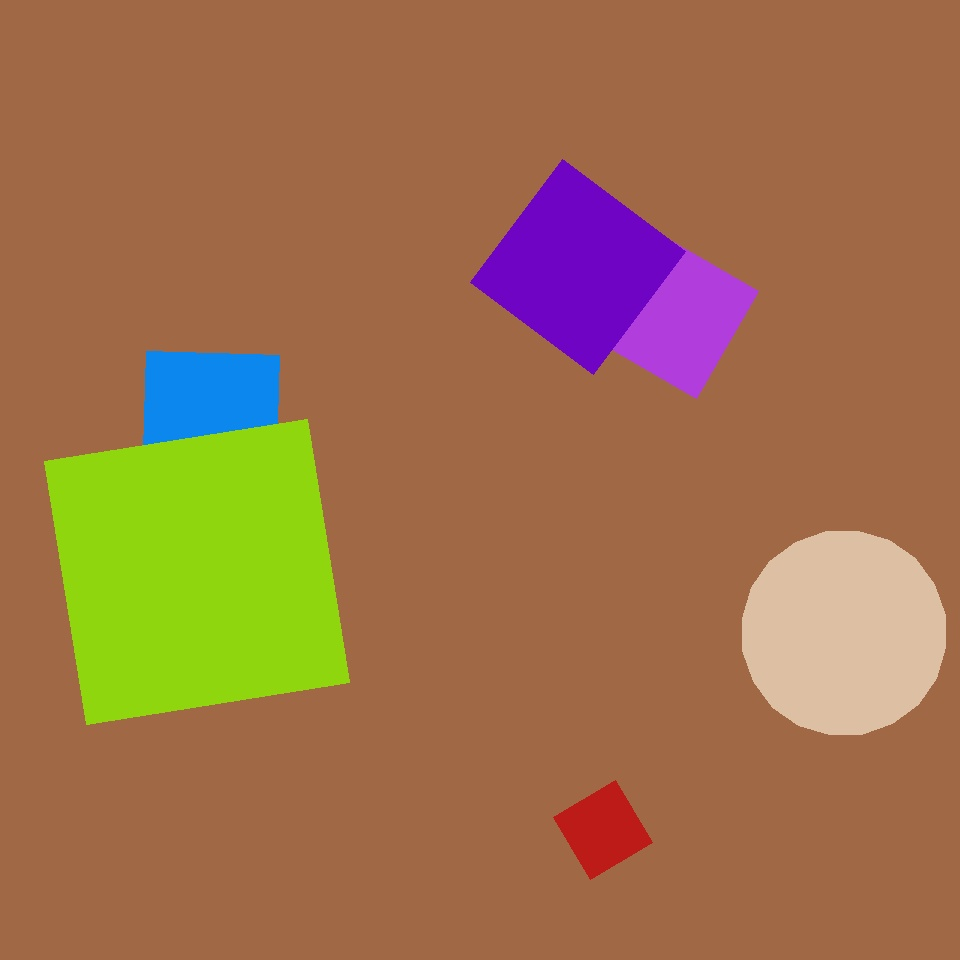square: (44, 420, 349, 724), (470, 160, 685, 374), (590, 230, 758, 398), (142, 352, 280, 488), (554, 781, 652, 880)
triangle: (602, 37, 900, 335), (615, 658, 863, 905), (742, 532, 946, 734), (633, 396, 727, 491)
